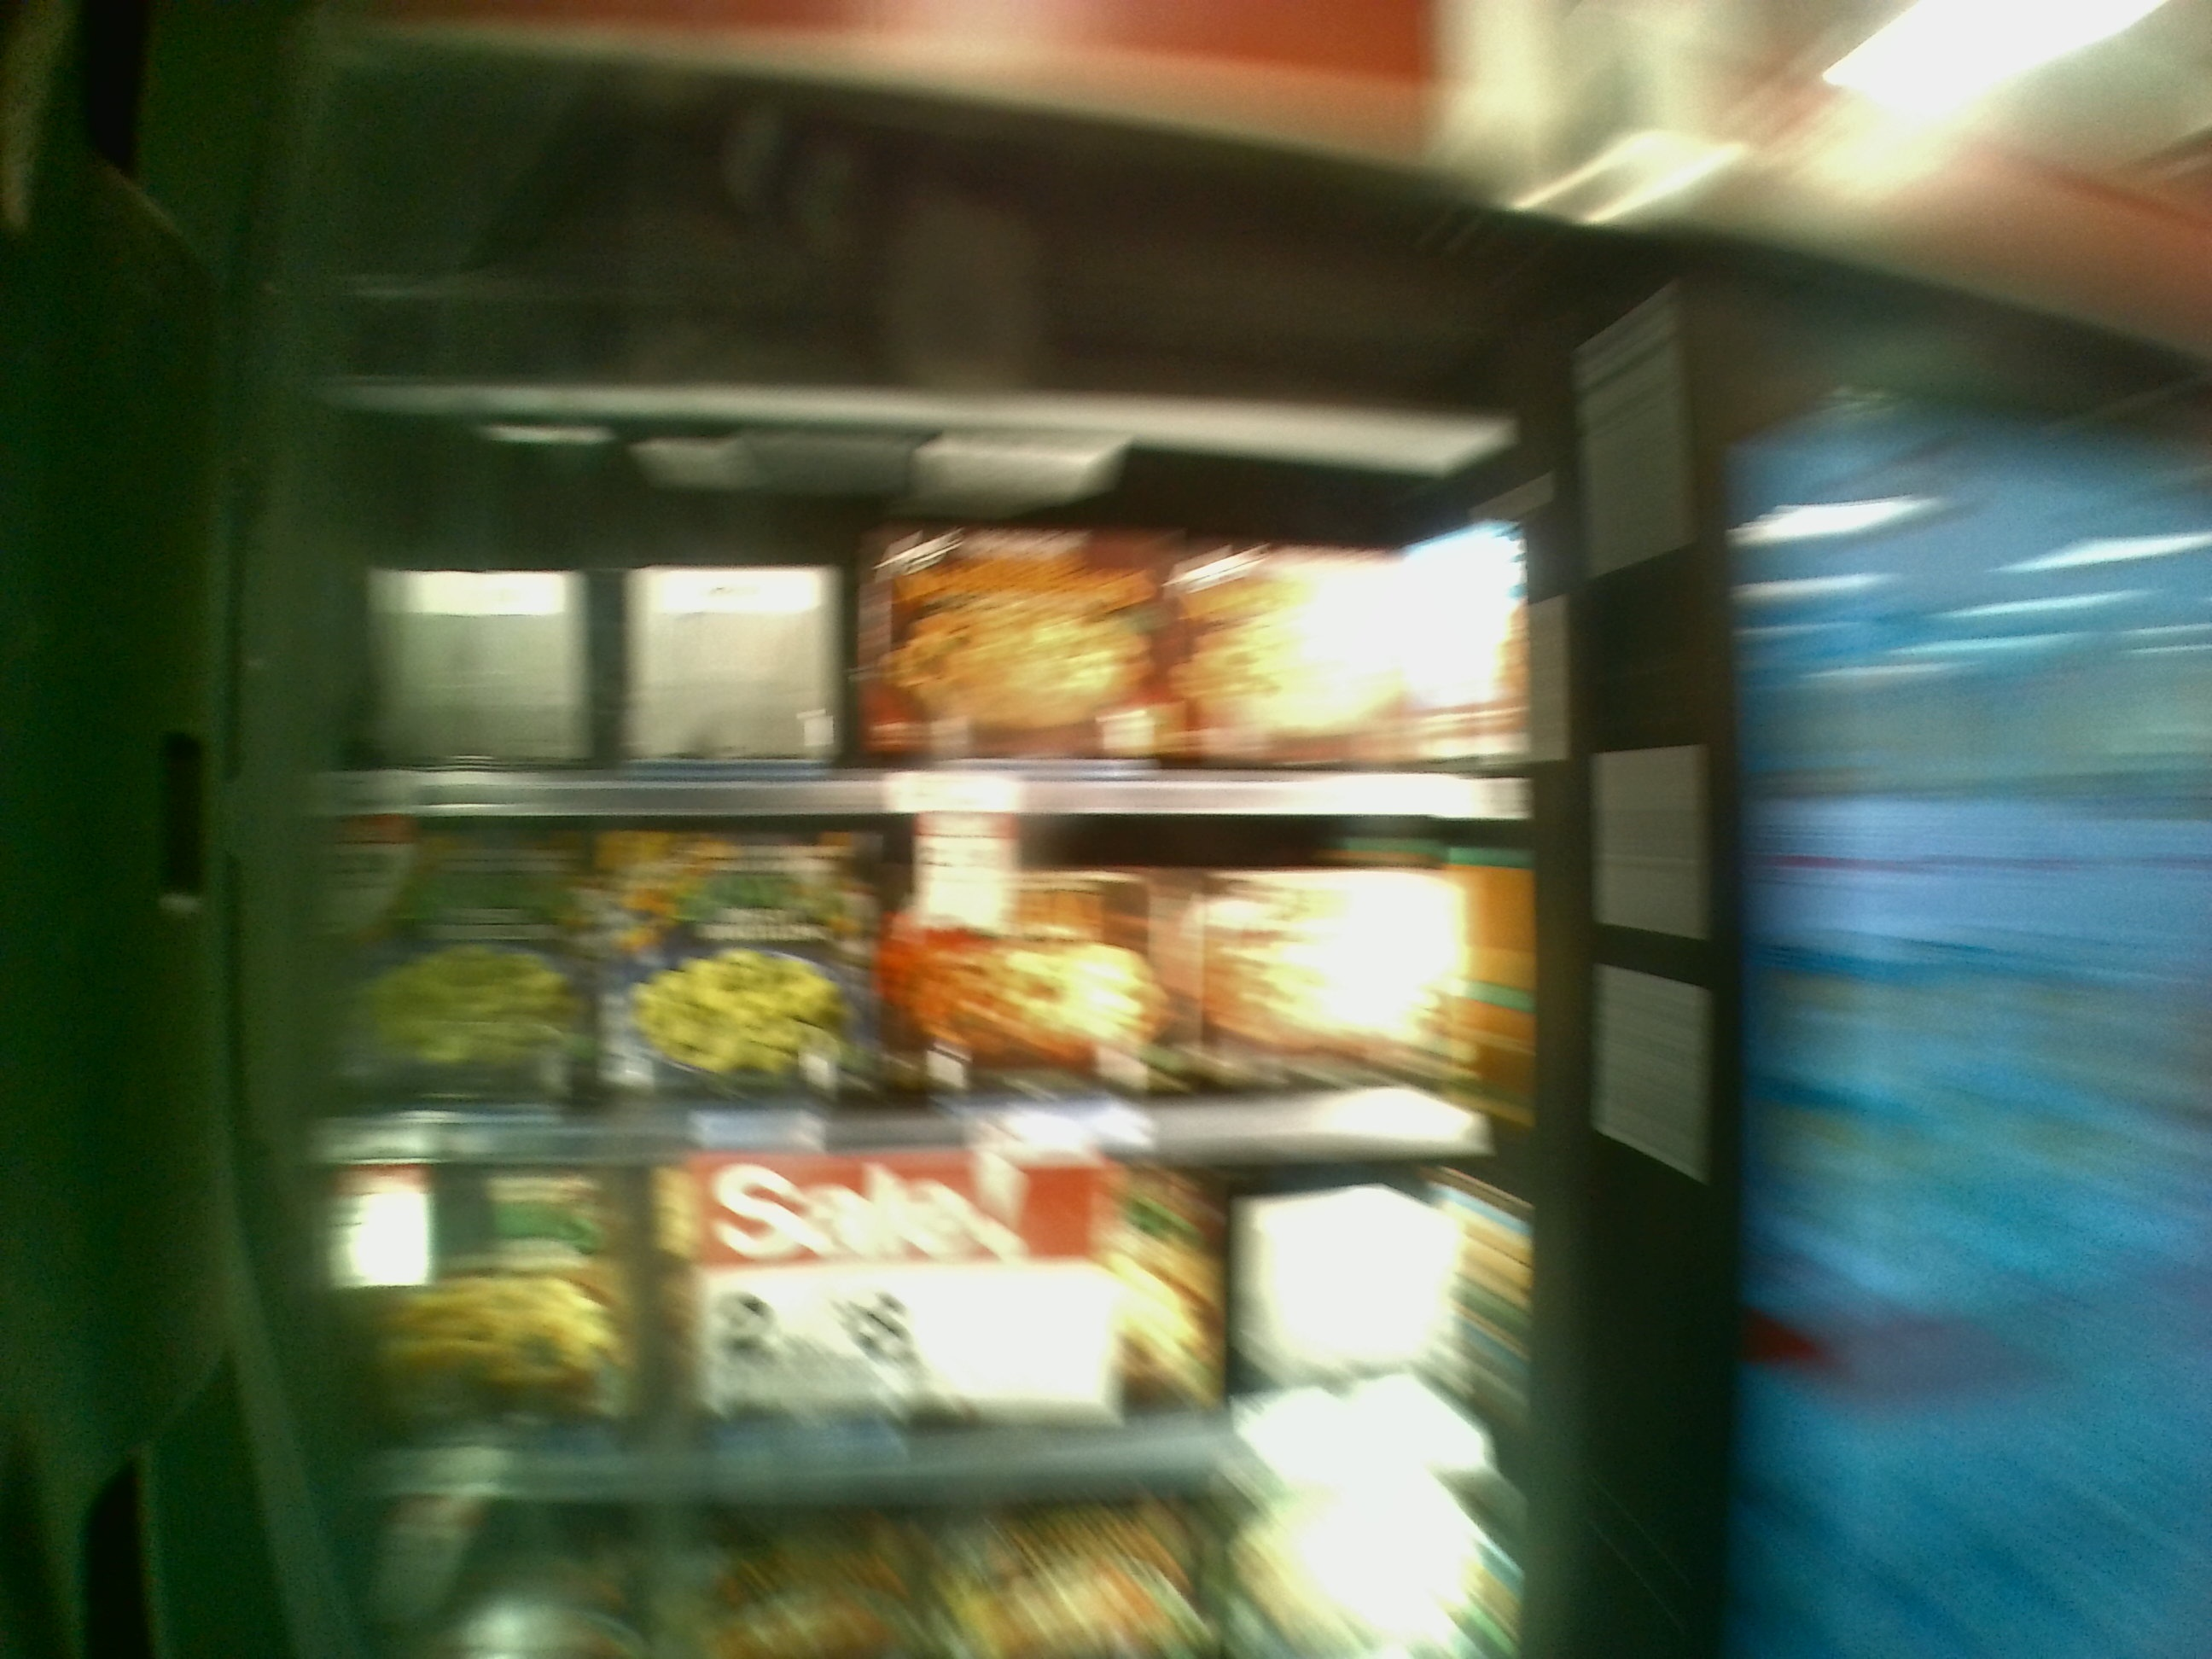shelf: (324, 394, 1538, 823), (334, 1155, 1517, 1502), (308, 821, 1512, 1155)
